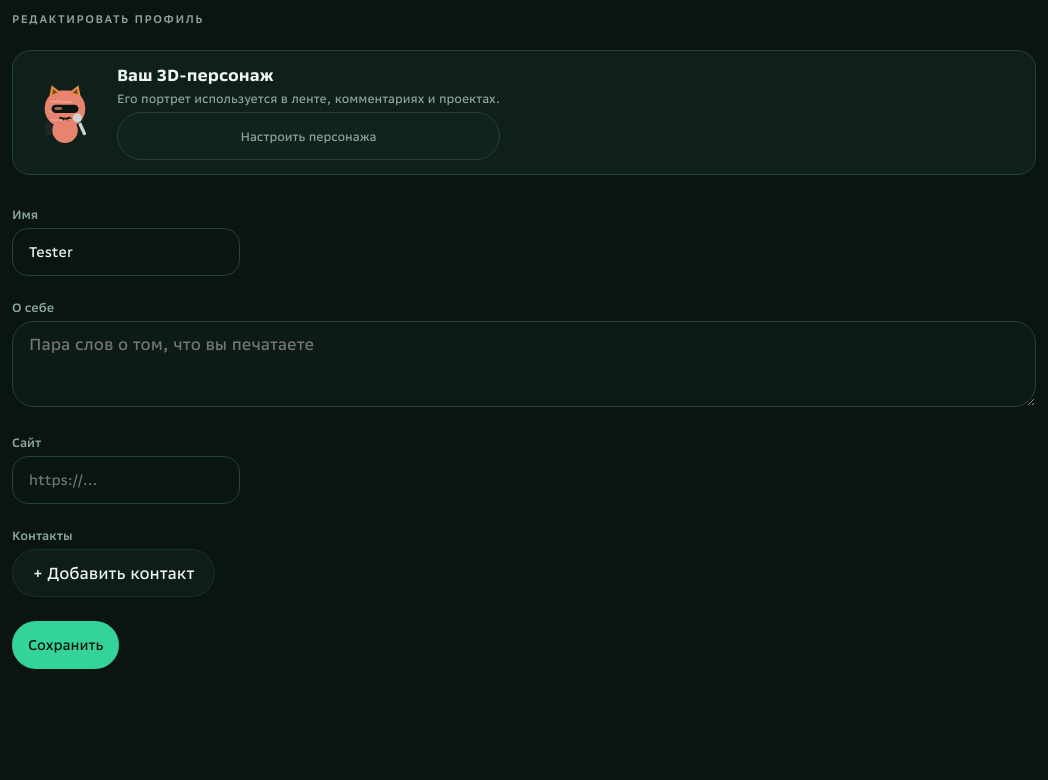
AccountEditor › shows a friendly error when the server rejects website_url
The width and height of the screenshot is (1048, 780).
Type "javascript:alert(1)" into the field labelled "Сайт". click: (126,480)
box: [12,456,240,504]
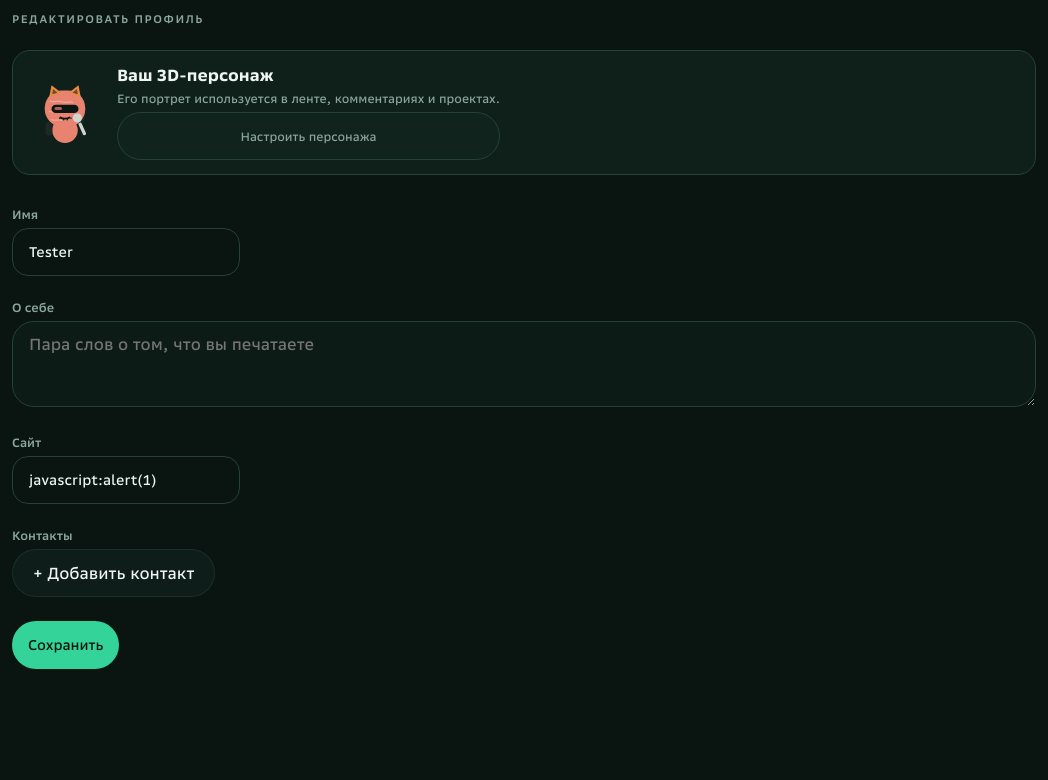
Click the button "Сохранить". click: (66,645)
box: [12,621,119,669]
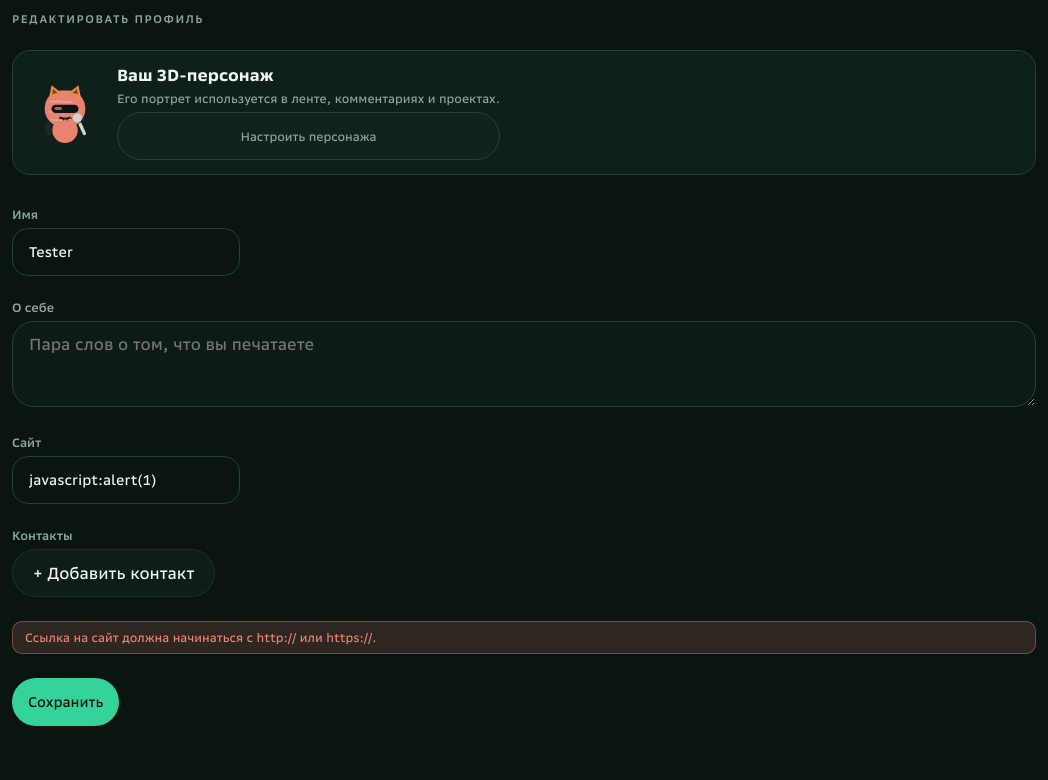
Now the text "Ссылка на сайт должна начинаться с http:// или https://." is shown, box [12,621,1036,654]
